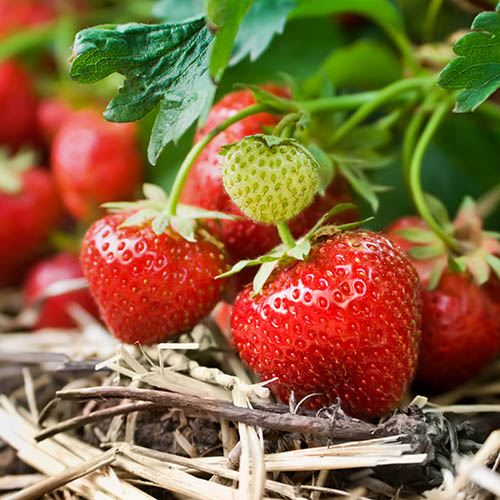ripe: (236, 219, 426, 424), (76, 200, 236, 347), (402, 202, 499, 383), (186, 81, 294, 243), (49, 99, 149, 214), (2, 140, 49, 300), (18, 253, 98, 337), (3, 46, 44, 158)
unripe: (218, 125, 332, 232)
